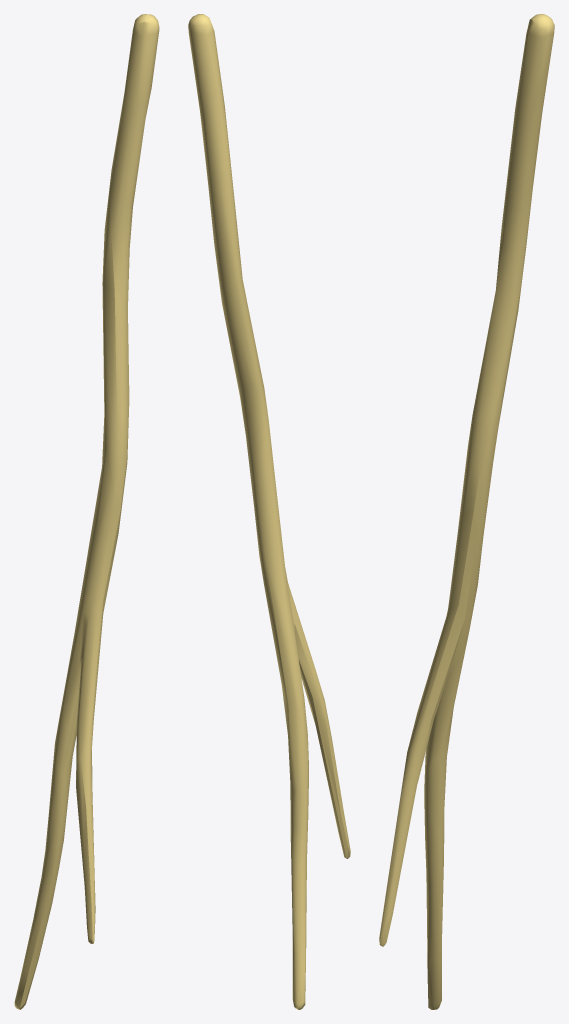
Rendered from fma52593_fj3916.glb.
3 views of the same model, side by side, from view 1: azimuth 30°, elevation 25°; view 2: azimuth 150°, elevation 25°; view 3: azimuth 330°, elevation 25° (orthographic). The views are drawn at different scales.
Parts seen in each view (by area): view 1: FMA52593_FJ3916; view 2: FMA52593_FJ3916; view 3: FMA52593_FJ3916.
Part boxes in pixels (x1,y1,x2,y2): FMA52593_FJ3916: (14,14,159,1009); FMA52593_FJ3916: (188,14,350,1009); FMA52593_FJ3916: (379,14,554,1009).
Size of the model in its own units: 0.00332 by 0.0239 by 0.0029.
